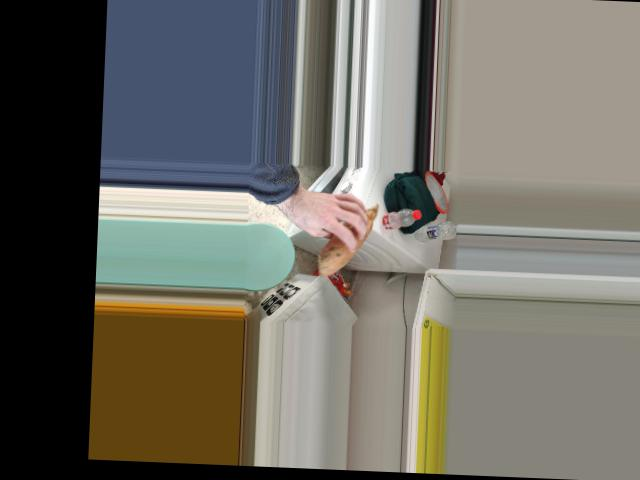sweet_potato: (320, 196, 376, 273)
